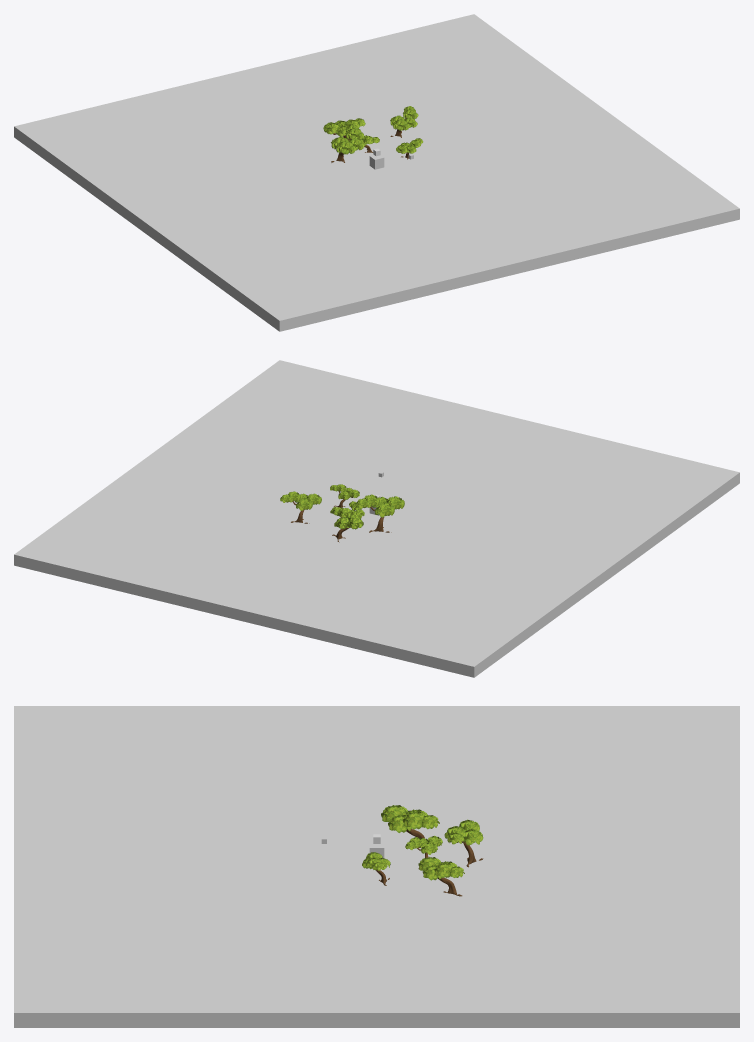
The model's file is spiral_demo.glb.
3 views of the same model, one above another, from view 1: azimuth 30°, elevation 25°; view 2: azimuth 150°, elevation 25°; view 3: azimuth 270°, elevation 25° (orthographic). The views are drawn at different scales.
Parts seen in each view (by area): view 1: Cube.001, Retopo_Plane.003; view 2: Cube.001, Retopo_Plane.003, Retopo_Plane.005, Retopo_Plane.004; view 3: Cube.001, Retopo_Plane.003, Retopo_Plane.005, Retopo_Plane.004.
Boxes of the visible parts, x1,y1,x2,y2 form: Cube.001: (14, 14, 739, 331); Retopo_Plane.003: (331, 124, 364, 162); Cube.001: (14, 360, 739, 677); Retopo_Plane.003: (355, 494, 404, 532); Retopo_Plane.005: (280, 491, 321, 523); Retopo_Plane.004: (330, 507, 363, 542); Cube.001: (14, 706, 739, 1027); Retopo_Plane.003: (381, 805, 439, 847); Retopo_Plane.005: (418, 857, 464, 896); Retopo_Plane.004: (444, 819, 483, 867).
Bounding box in the file's own units: 98.88 × 8.51 × 98.88.
3 materials, 2 textured.
